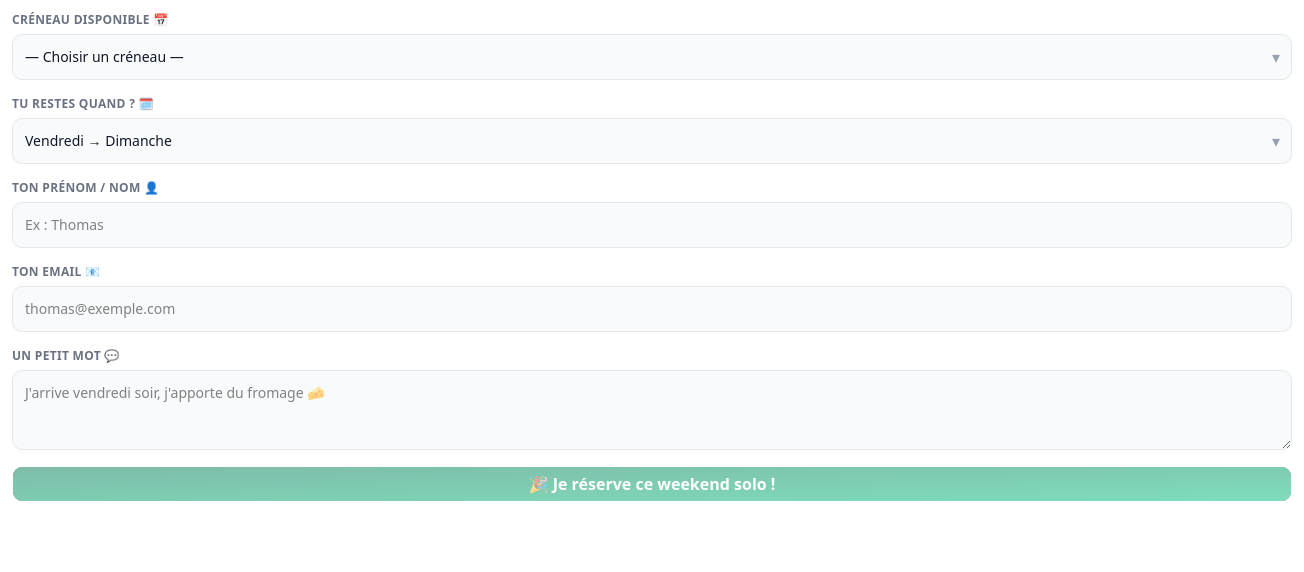
Test: SoloForm › shows an applicative error instead of submitting an invalid email
Select "Ven 25 → Mar 29 avr" in the dropdown labelled "Créneau disponible 📅" at [652, 57], box [12,34,1292,80]
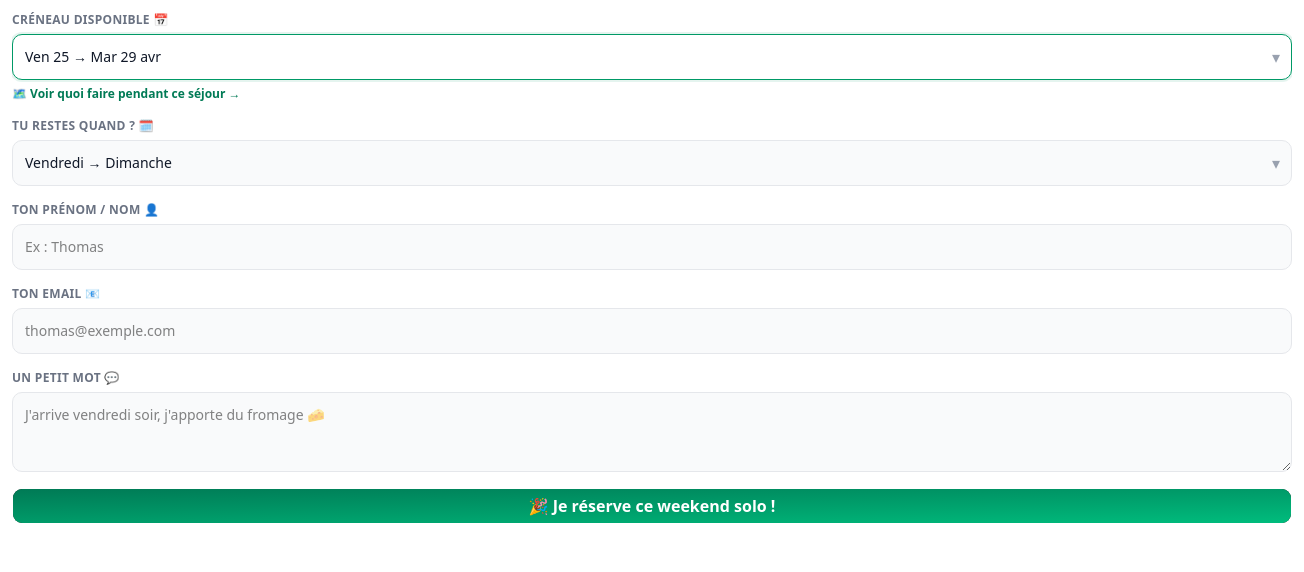
Type "Thomas" into the field labelled "Ton prénom / nom 👤".
click(652, 247); type("Thomas")  # box [12,224,1292,270]
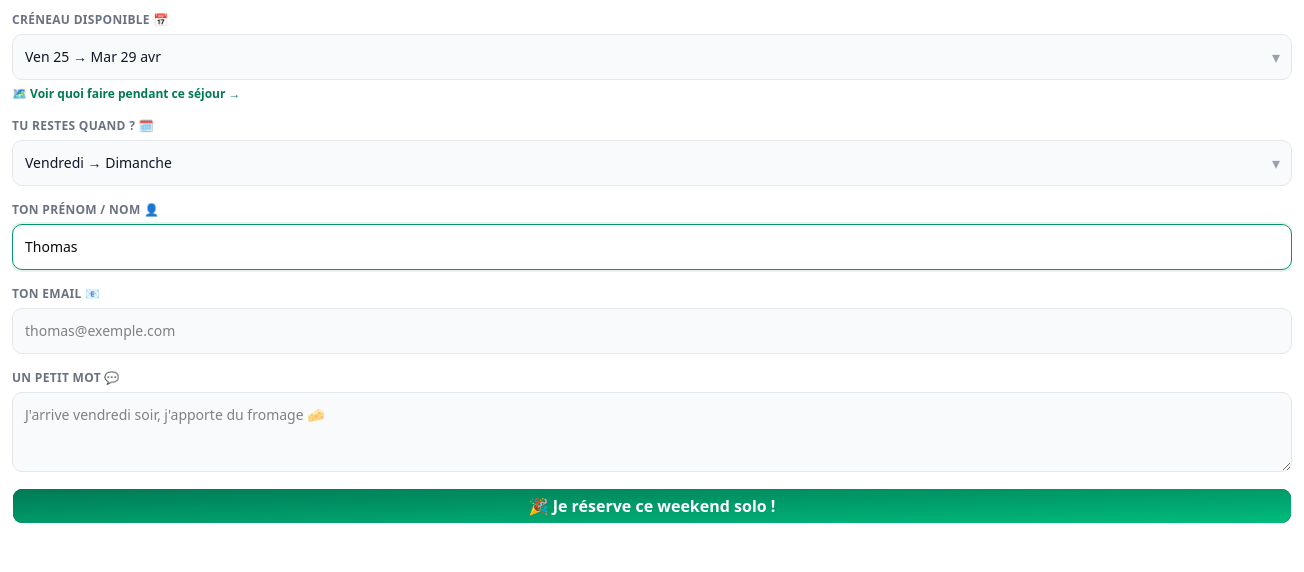
Type "pas-un-email" into the field labelled "Ton email 📧".
click(652, 331); type("pas-un-email")  # box [12,308,1292,354]
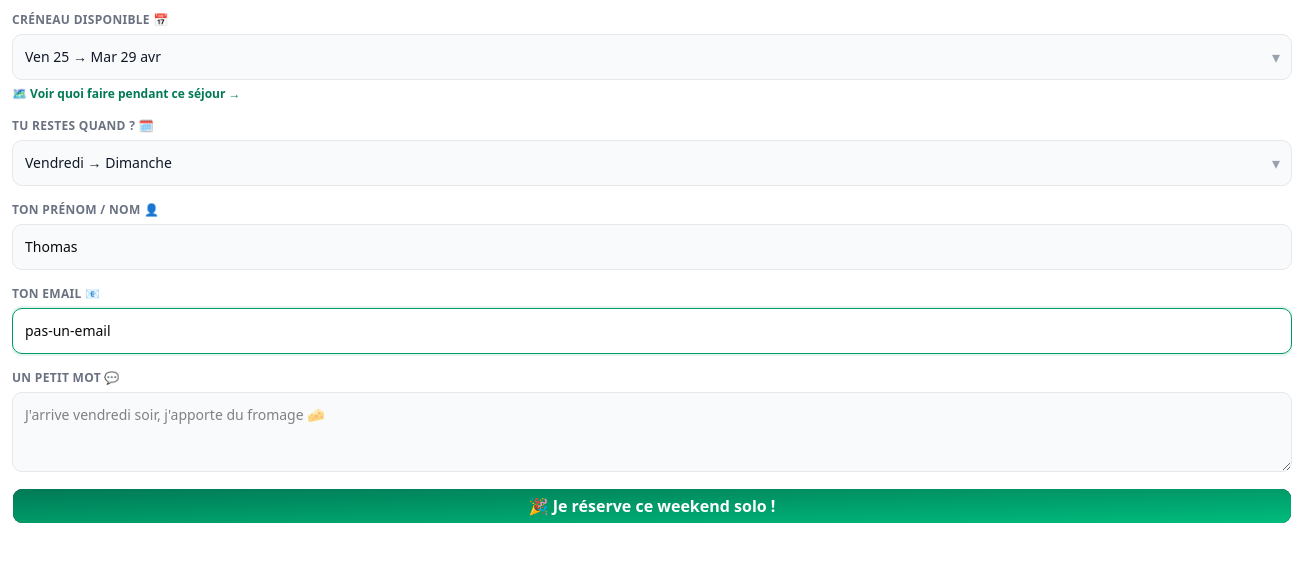
Click the button "🎉 Je réserve ce weekend solo !".
click(652, 506)  # box [12,488,1292,524]
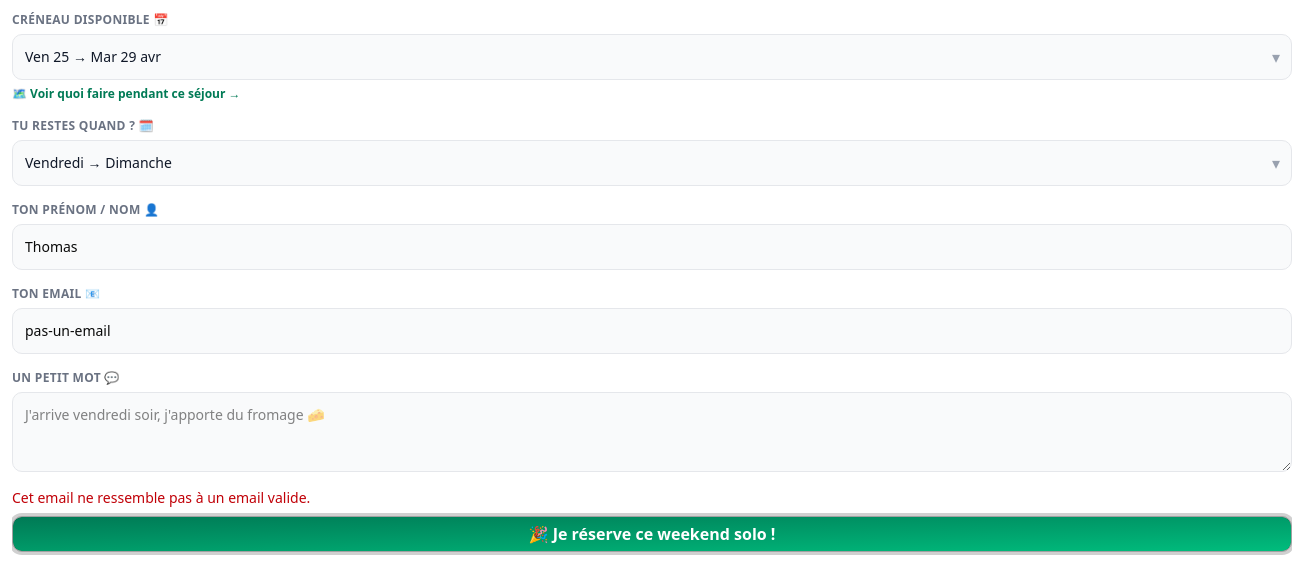
Now the text "Cet email ne ressemble pas à un email valide." is shown, box [12,488,310,507]
